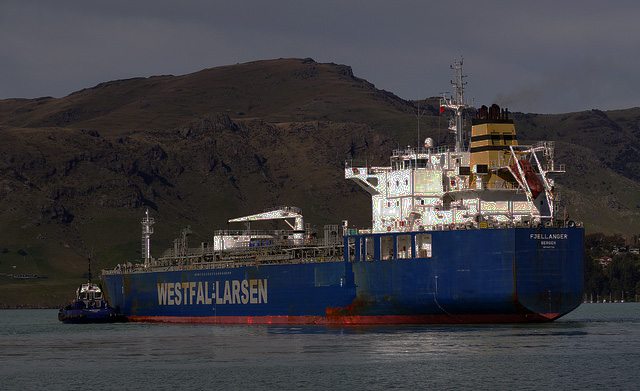tanker: (99, 62, 592, 329)
tug_boat: (60, 255, 115, 321)
